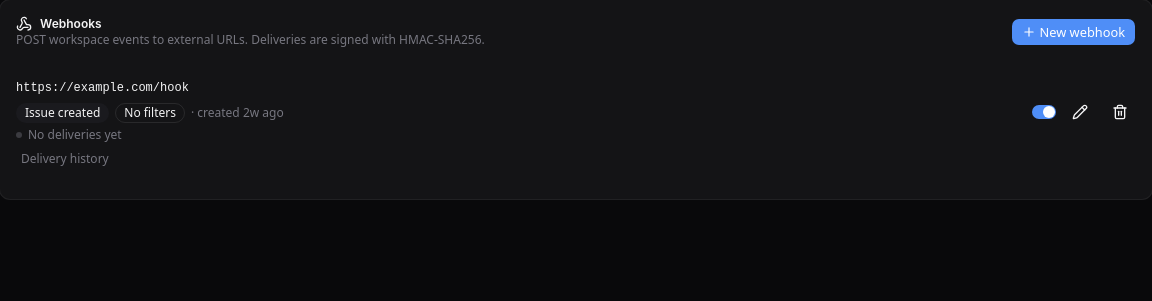
Test: WebhookDeliveryHistory panel › shows the load failure without crashing
This screenshot has width=1152, height=301.
Expected: the text "https://example.com/hook" is shown, [16,81,189,95]
Click the button "Delivery history": (65, 159) [16,147,114,171]
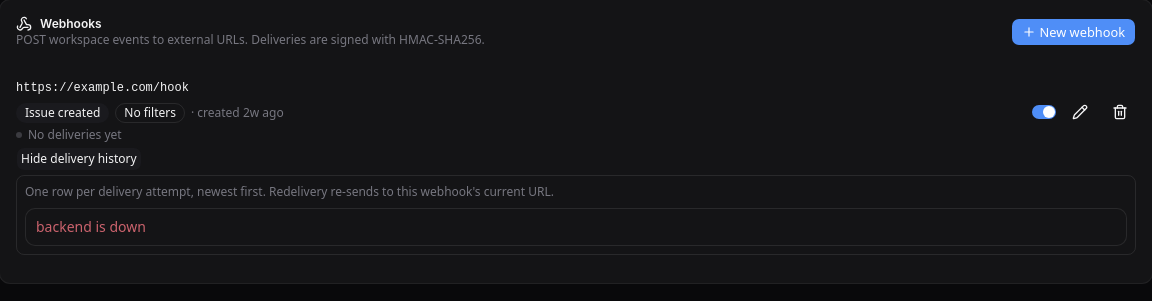
Now the text "backend is down" is shown, box [36,217,146,236]
